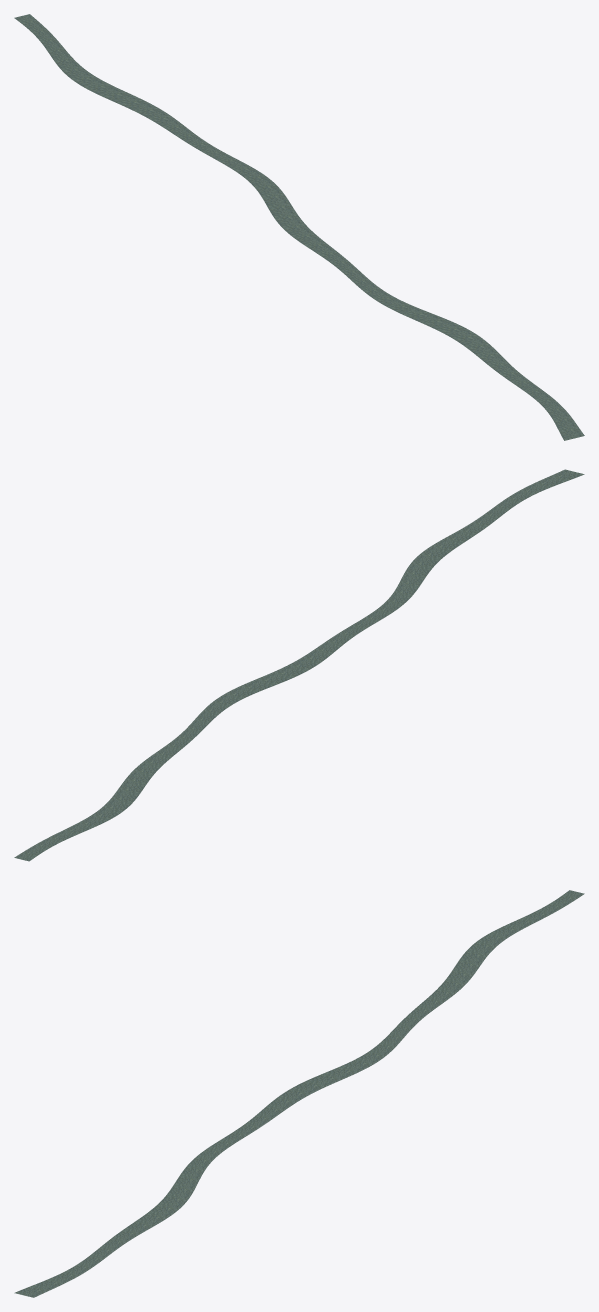
The model's file is water.glb.
The picture shows the model from 3 angles, top to bottom: view 1: azimuth 30°, elevation 25°; view 2: azimuth 150°, elevation 25°; view 3: azimuth 330°, elevation 25°; orthographic projection. The views are drawn at different scales.
Size of the model in its own units: 4.76 by 0.76 by 95.
1 material, 1 textured.
